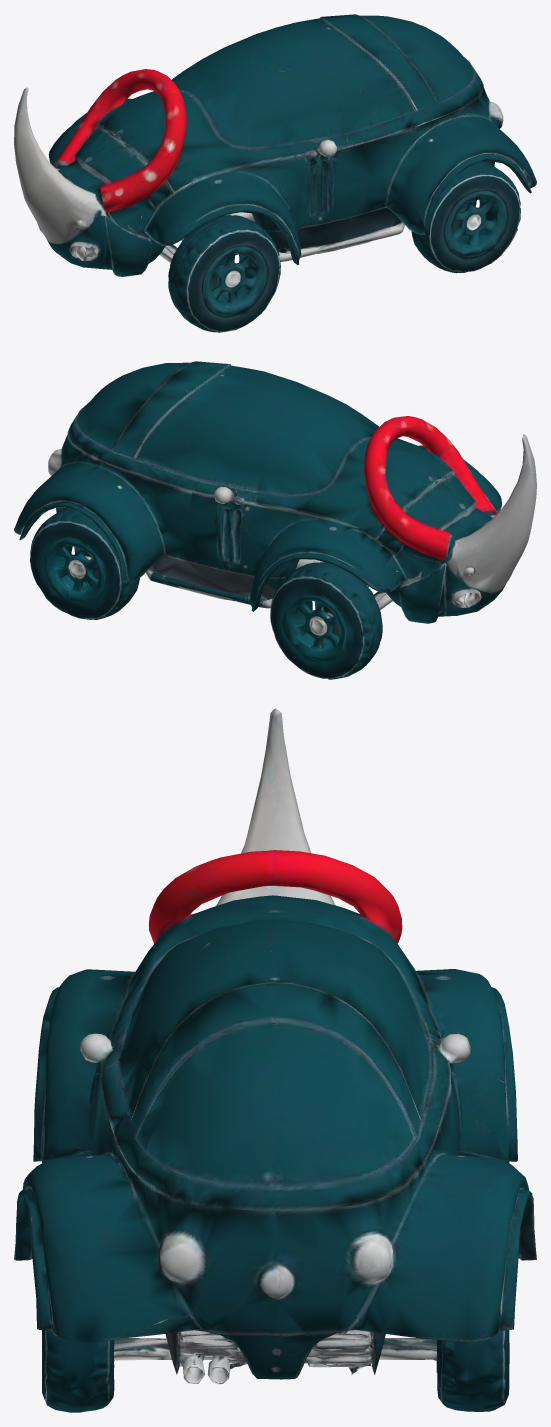
The model's file is sr_magnet.glb.
3 renders of one model, top to bottom at view 1: azimuth 30°, elevation 25°; view 2: azimuth 150°, elevation 25°; view 3: azimuth 270°, elevation 25°, orthographic. The views are drawn at different scales.
Bounding box in the file's own units: 1.9 × 0.9016 × 1.1.
Materials: 1 (1 with a texture image).
